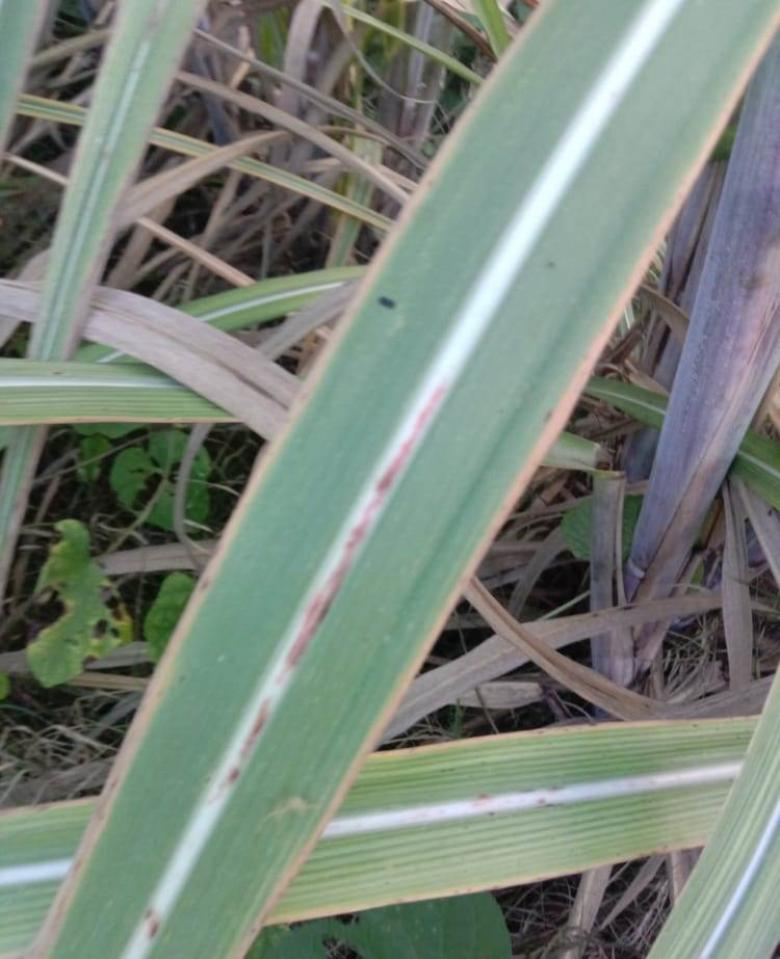RedRot: (205, 365, 455, 806), (140, 907, 162, 941)
Yellow: (233, 8, 779, 959), (26, 0, 554, 959)
